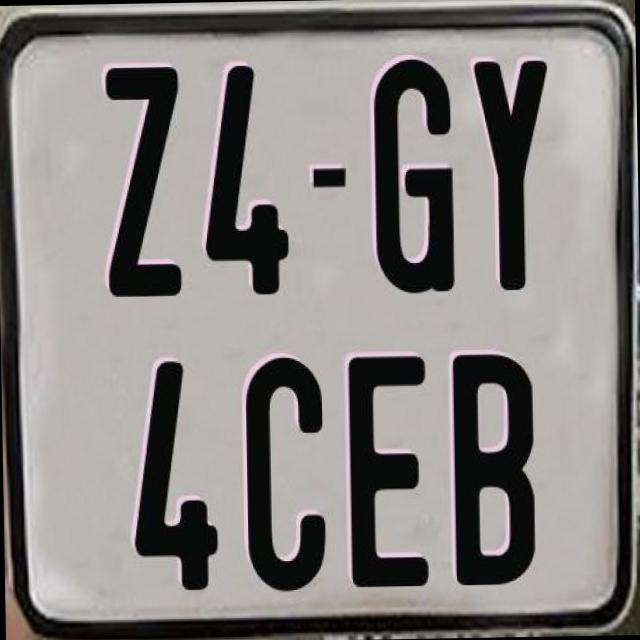4: (129, 361, 221, 598), (198, 64, 288, 302)
B: (450, 353, 538, 593)
C: (240, 357, 328, 593)
E: (344, 354, 434, 588)
G: (371, 54, 453, 290)
Y: (470, 56, 554, 292)
Z: (100, 65, 178, 298)
